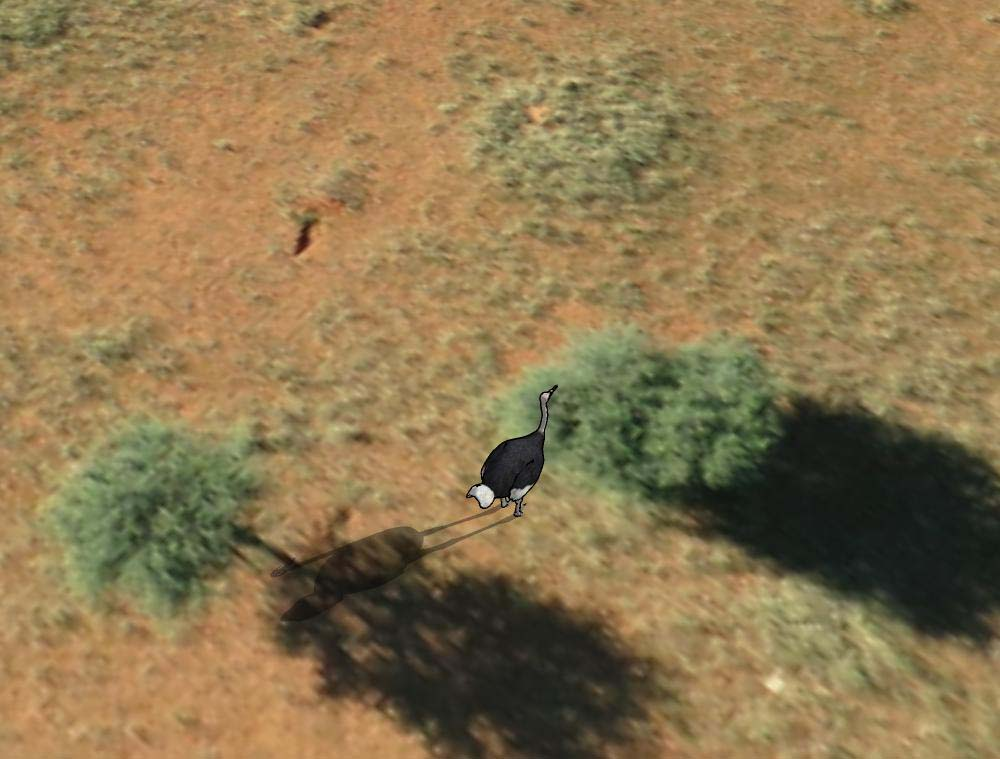ostrich: (463, 385, 560, 521)
